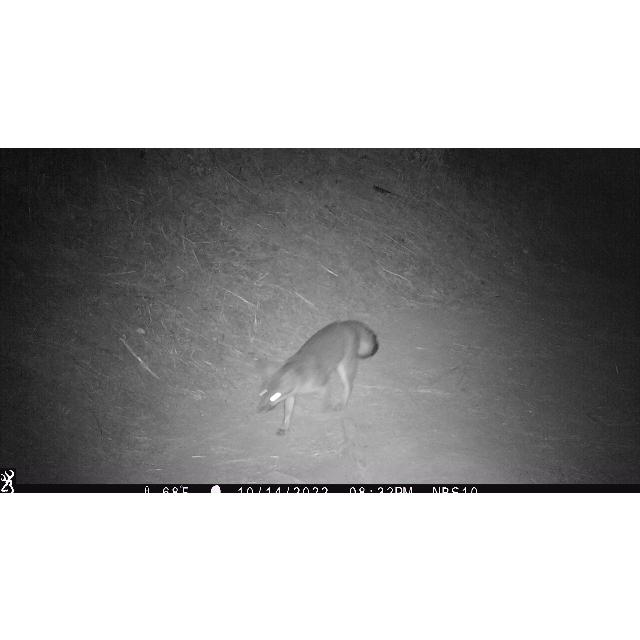animals: (257, 318, 379, 438)
